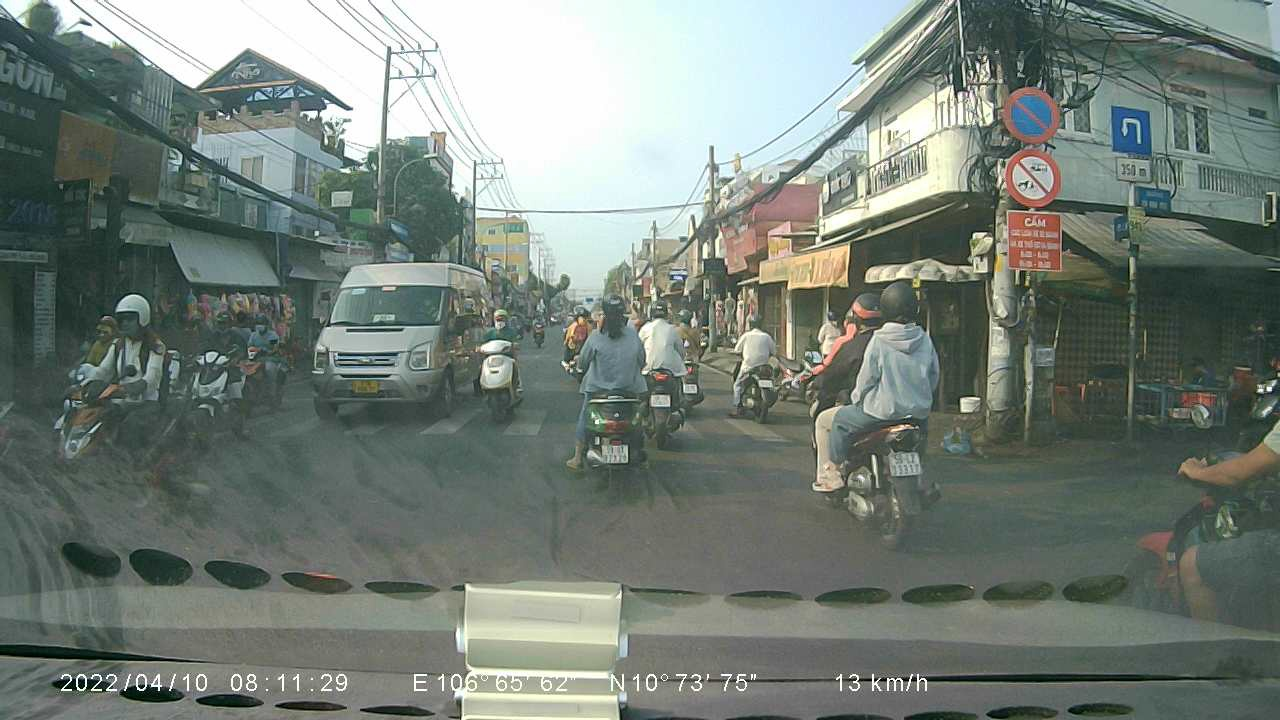Bien khac: (1001, 148, 1064, 209), (1107, 103, 1154, 155)
Cam do xe: (1000, 79, 1072, 147)
